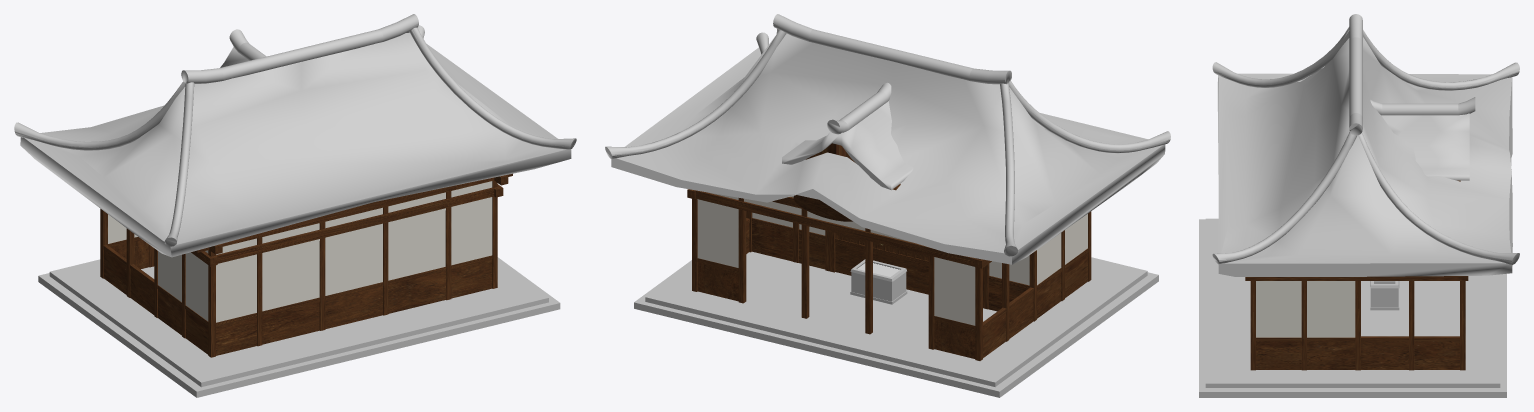
The model's file is Shrine.fbx.
3 renders of one model, left to right at view 1: azimuth 30°, elevation 25°; view 2: azimuth 150°, elevation 25°; view 3: azimuth 270°, elevation 25°, orthographic. The views are drawn at different scales.
Parts seen in each view (by area): view 1: 立方体.044, Dodai, 立方体.002, 立方体.015, 円柱.005, 円柱, 立方体.016, 立方体.032, 立方体.007, 立方体.036, 立方体.012, 円柱.004 (+6 smaller); view 2: 立方体.044, Dodai, 立方体.008, 立方体.045, 立方体.016, 円柱, 立方体.001, 立方体.003, 立方体.004, 円柱.003, 円柱.005, Saisenbako (+14 smaller); view 3: 立方体.044, Dodai, 立方体.016, 立方体.007, 立方体.045, 円柱.005, 円柱.003, 円柱, 円柱.004, 円柱.001, 立方体.012, 立方体.013 (+3 smaller).
Boxes of the visible parts, x1=… form: 立方体.044: x1=20, y1=32, x2=571, y2=257; Dodai: x1=38, y1=257, x2=560, y2=397; 立方体.002: x1=216, y1=197, x2=492, y2=322; 立方体.015: x1=216, y1=255, x2=492, y2=355; 円柱.005: x1=164, y1=27, x2=576, y2=246; 円柱: x1=181, y1=14, x2=418, y2=83; 立方体.016: x1=103, y1=245, x2=208, y2=354; 立方体.032: x1=215, y1=186, x2=499, y2=263; 立方体.007: x1=158, y1=251, x2=208, y2=321; 立方体.036: x1=216, y1=181, x2=492, y2=254; 立方体.012: x1=100, y1=180, x2=497, y2=357; 円柱.004: x1=14, y1=81, x2=185, y2=150; 立方体.044: x1=611, y1=33, x2=1165, y2=264; Dodai: x1=634, y1=251, x2=1158, y2=397; 立方体.008: x1=751, y1=218, x2=1029, y2=311; 立方体.045: x1=782, y1=101, x2=913, y2=190; 立方体.016: x1=746, y1=218, x2=1088, y2=357; 円柱: x1=773, y1=14, x2=1011, y2=84; 立方体.001: x1=693, y1=190, x2=981, y2=266; 立方体.003: x1=934, y1=257, x2=975, y2=325; 立方体.004: x1=697, y1=199, x2=738, y2=267; 円柱.003: x1=605, y1=30, x2=786, y2=159; 円柱.005: x1=756, y1=29, x2=1170, y2=153; Saisenbako: x1=850, y1=259, x2=907, y2=304; 立方体.044: x1=1217, y1=37, x2=1512, y2=276; Dodai: x1=1199, y1=218, x2=1506, y2=397; 立方体.016: x1=1256, y1=336, x2=1459, y2=369; 立方体.007: x1=1256, y1=281, x2=1355, y2=337; 立方体.045: x1=1381, y1=113, x2=1469, y2=181; 円柱.005: x1=1212, y1=27, x2=1356, y2=264; 円柱.003: x1=1358, y1=133, x2=1519, y2=264; 円柱: x1=1349, y1=14, x2=1362, y2=135; 円柱.004: x1=1363, y1=30, x2=1519, y2=90; 円柱.001: x1=1370, y1=97, x2=1475, y2=115; 立方体.012: x1=1250, y1=281, x2=1465, y2=370; 立方体.013: x1=1301, y1=281, x2=1414, y2=370.
Bounding box in the file's own units: 1312 × 765 × 910.
